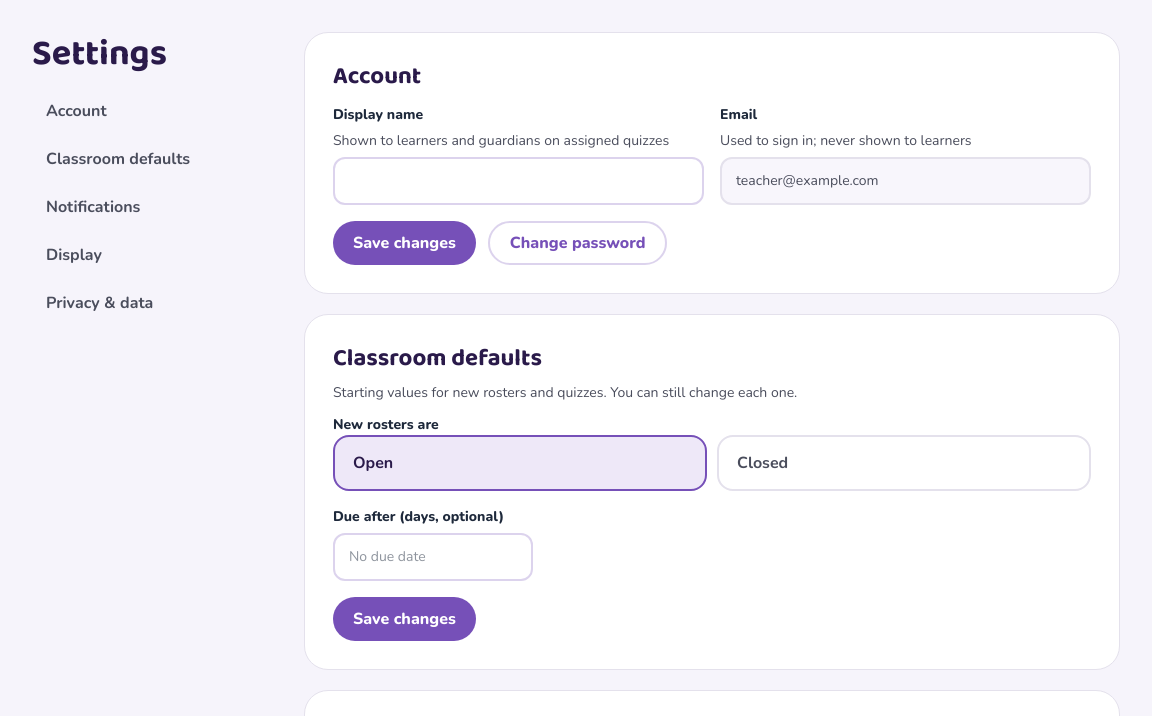
Test: InstructorSettingsFlow › saves the display name and reflects the persisted response
This screenshot has width=1152, height=716.
In the field labelled "Display name": [518, 181] box top-left (333, 157), bottom-right (704, 205), type "Ms. Rivera"
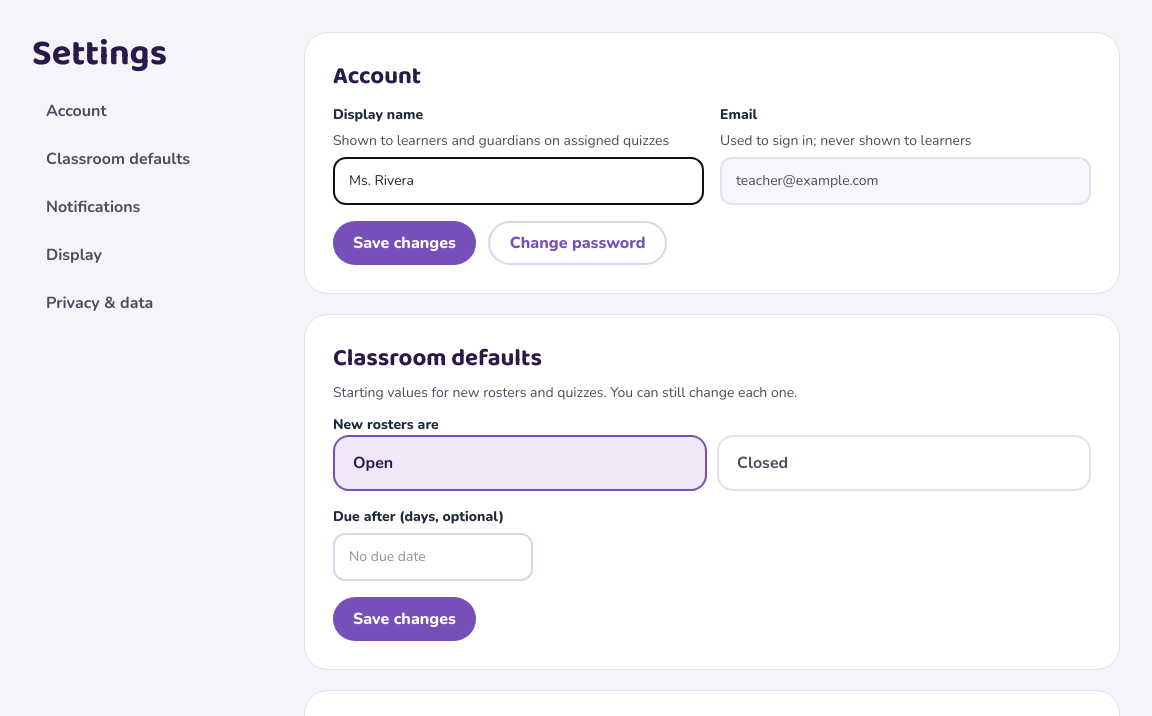
Click the button "Save changes" below "Used to sign in; never shown to learners": [404, 243] box top-left (333, 221), bottom-right (476, 265)
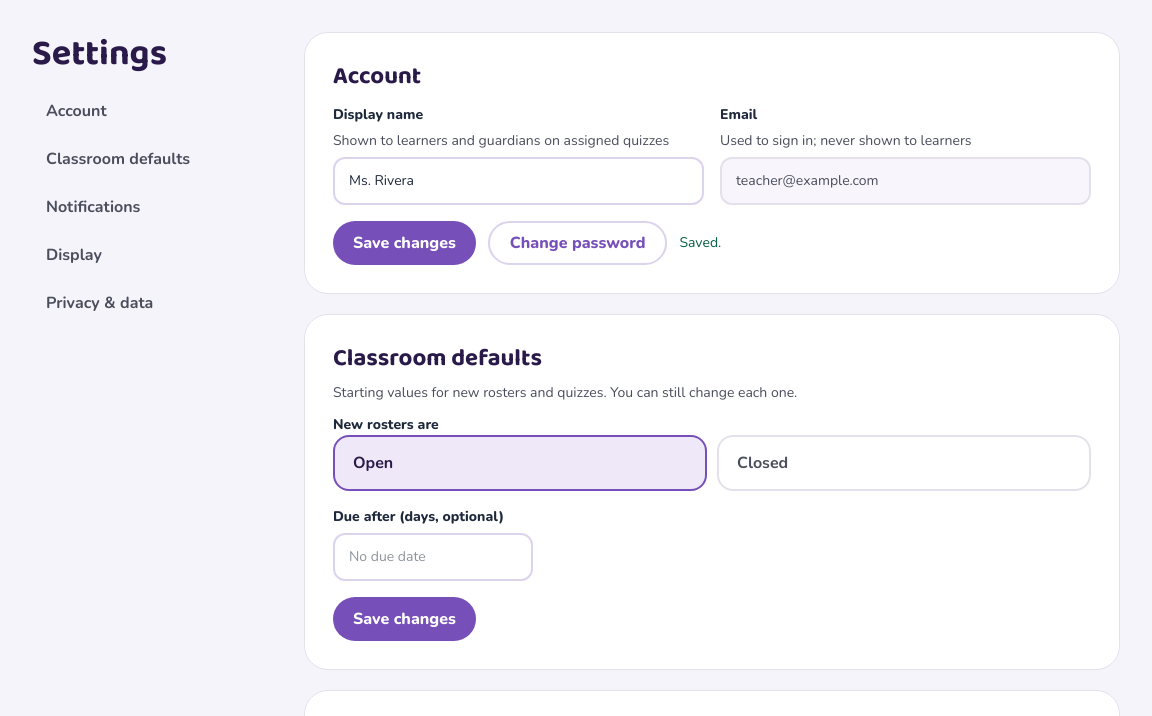
Check: the text "Saved." is shown, box top-left (679, 233), bottom-right (721, 253)
